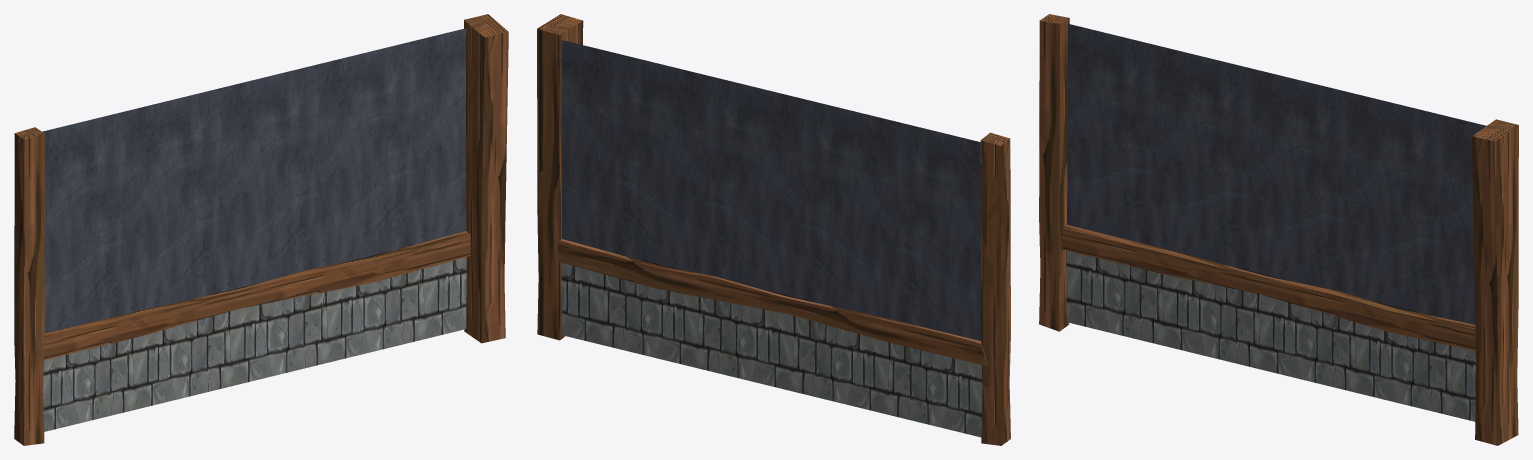
The model's file is Wall_2.fbx.
3 renders of one model, left to right at view 1: azimuth 30°, elevation 25°; view 2: azimuth 150°, elevation 25°; view 3: azimuth 330°, elevation 25°, orthographic.
Visible parts, largest first — view 1: 1_Wall_2; view 2: 1_Wall_2; view 3: 1_Wall_2.
Part boxes in pixels (x1,y1,x2,y2): 1_Wall_2: (14,14,508,445); 1_Wall_2: (537,14,1010,445); 1_Wall_2: (1039,14,1518,445).
Size of the model in its own units: 724 by 456 by 61.67.
